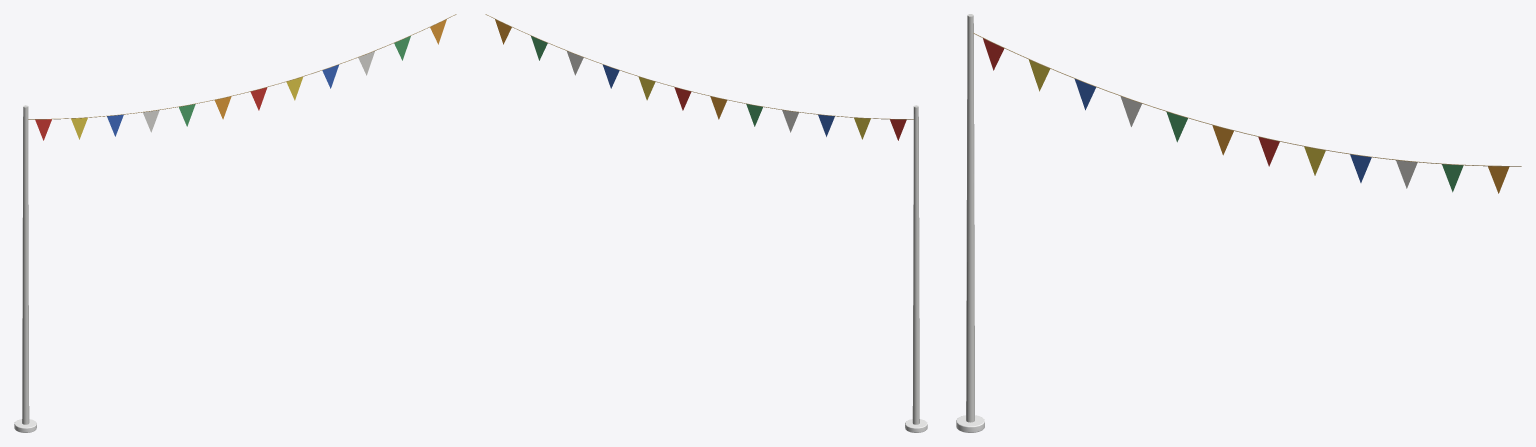
File: sport.stunt.yard_bunting.glb
3 renders of one model, left to right at view 1: azimuth 30°, elevation 25°; view 2: azimuth 150°, elevation 25°; view 3: azimuth 330°, elevation 25°, orthographic. The views are drawn at different scales.
Parts seen in each view (by area): view 1: main__paint_eed, main__paint_ca7; view 2: main__paint_eed, main__paint_ca7; view 3: main__paint_eed, main__paint_ca7, main__paint_ea4, main__paint_5b7, main__paint_d43, main__paint_ed5, main__paint_47c, main__paint_eee.
Part boxes in pixels (box(x1,y1,x2,y2)): main__paint_eed: box(22, 105, 29, 424); main__paint_ca7: box(28, 14, 456, 119); main__paint_eed: box(912, 105, 919, 424); main__paint_ca7: box(485, 14, 913, 119); main__paint_eed: box(966, 14, 974, 422); main__paint_ca7: box(973, 33, 1521, 166); main__paint_ea4: box(1212, 125, 1509, 193); main__paint_5b7: box(1166, 111, 1463, 192); main__paint_d43: box(983, 38, 1279, 166); main__paint_ed5: box(1028, 59, 1325, 175); main__paint_47c: box(1074, 79, 1371, 182); main__paint_eee: box(1120, 96, 1417, 188).
Bounding box in the file's own units: 7.16 × 5 × 0.32.
